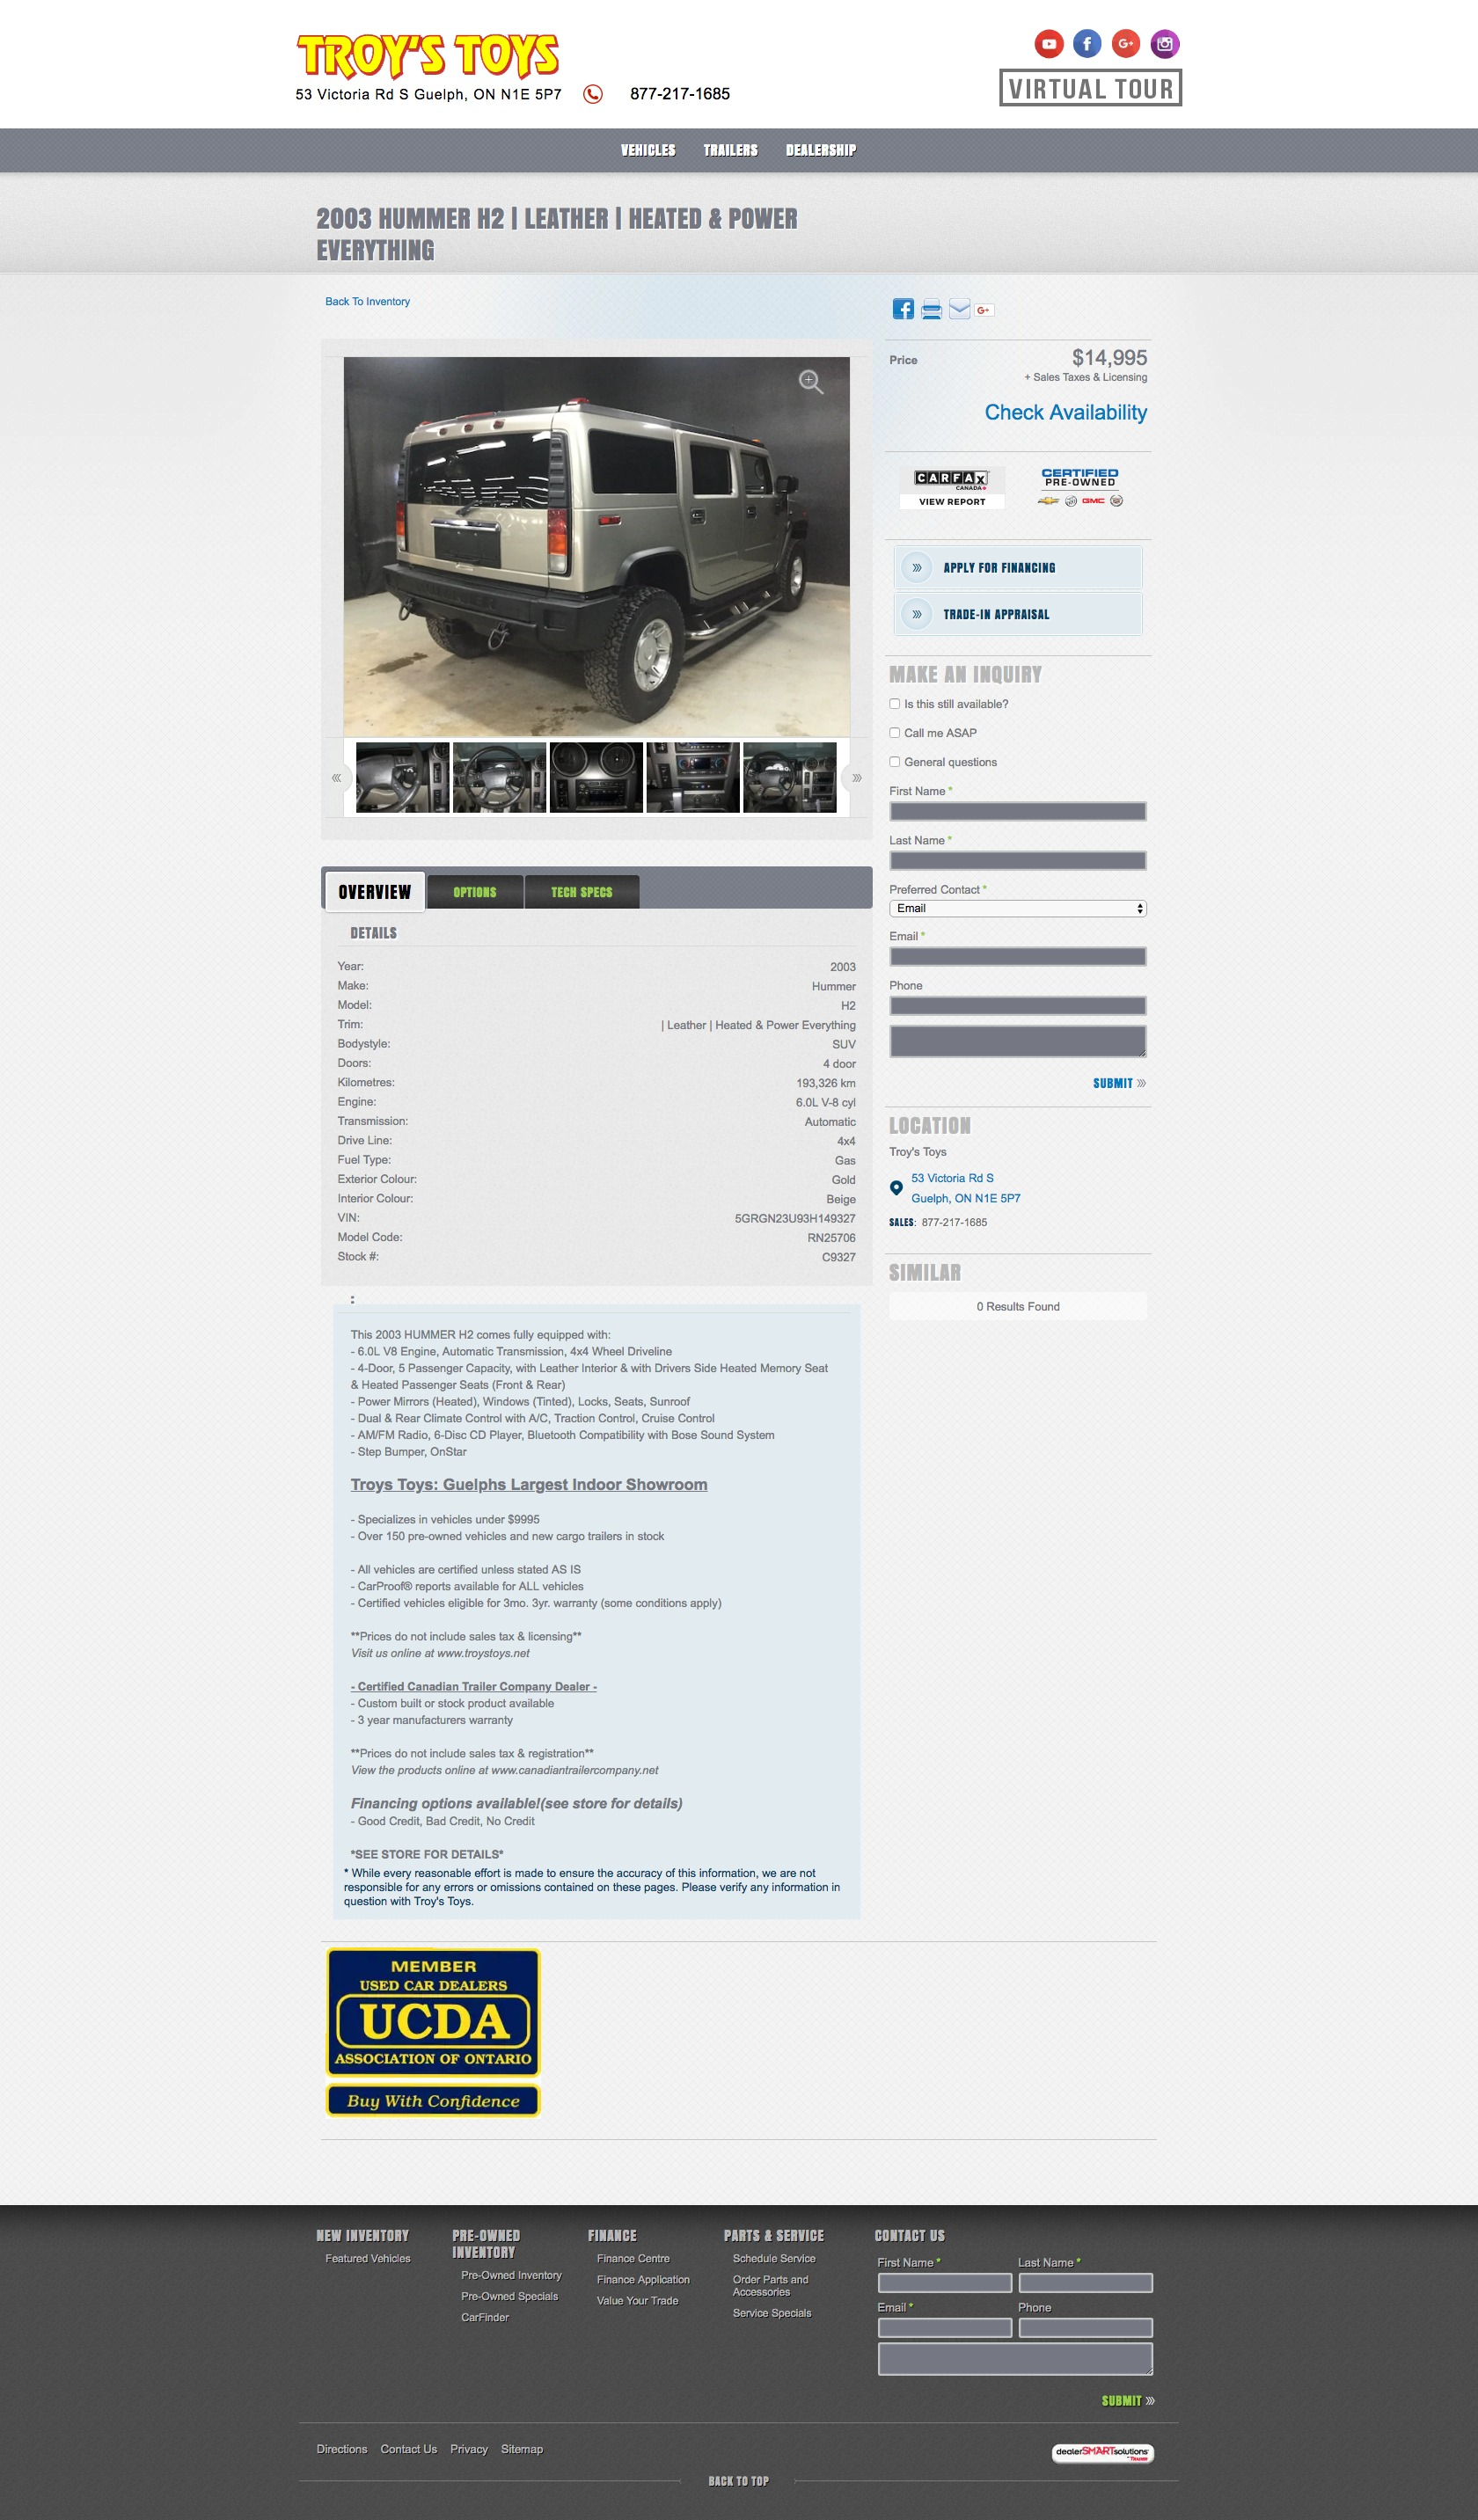car: (852, 772, 862, 784)
